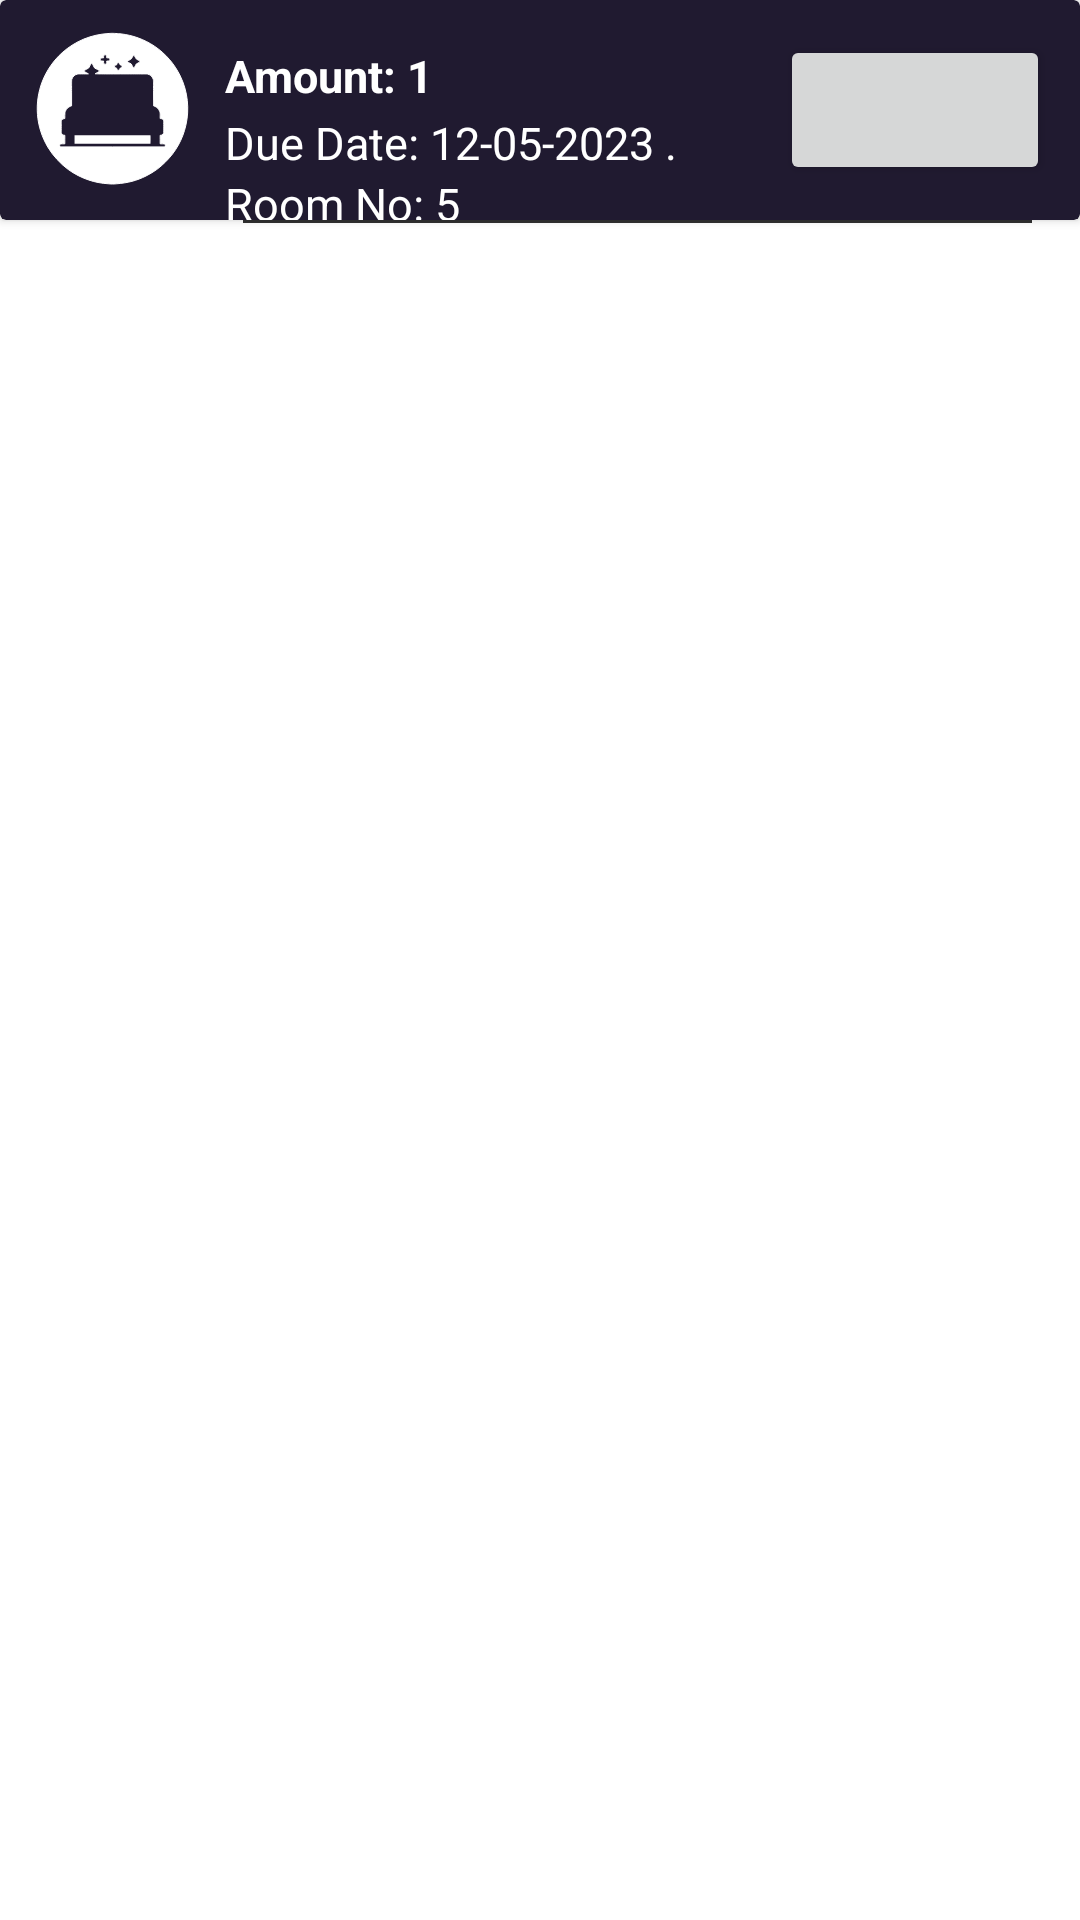

Icons on this 1080x1920 Android screen, each with its box as (x1, y1, x2, y2):
bed: (36, 32, 189, 185)
